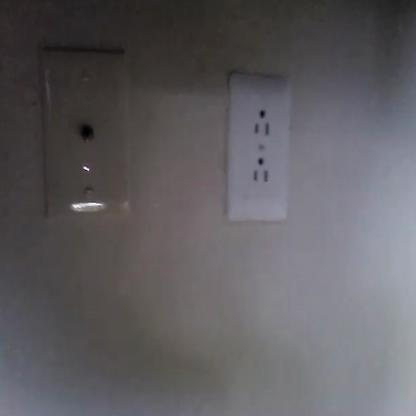OUTLET: (226, 74, 289, 223)
